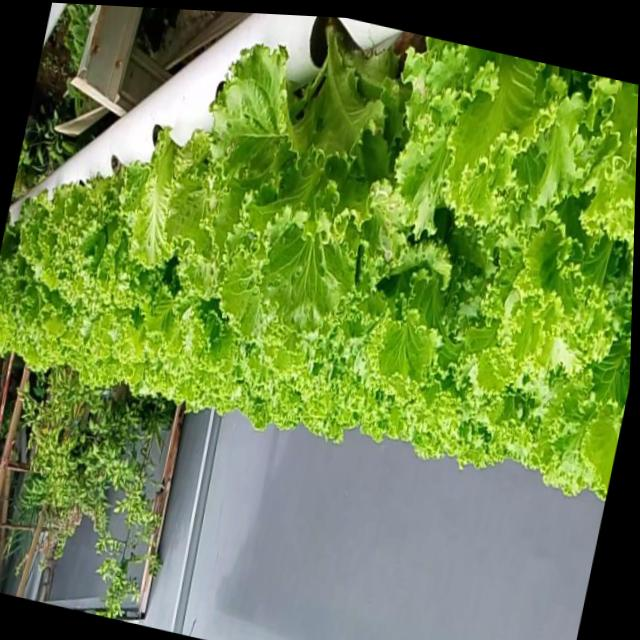Mature: (167, 17, 411, 336), (38, 161, 156, 315)
